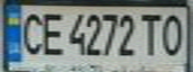2: (81, 10, 103, 56), (118, 10, 139, 57)
4: (63, 9, 87, 56)
7: (100, 10, 121, 57)
C: (15, 8, 45, 57)
E: (36, 8, 66, 57)
O: (157, 10, 190, 57)
T: (136, 10, 163, 57)
